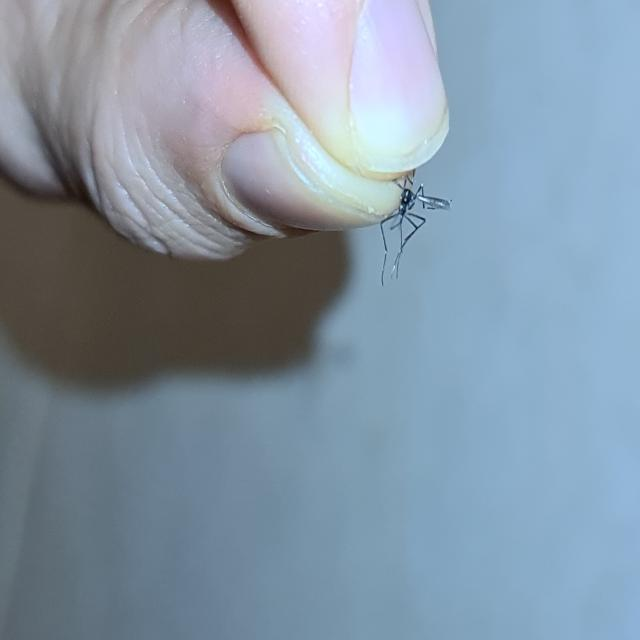albopictus: (367, 151, 458, 284)
